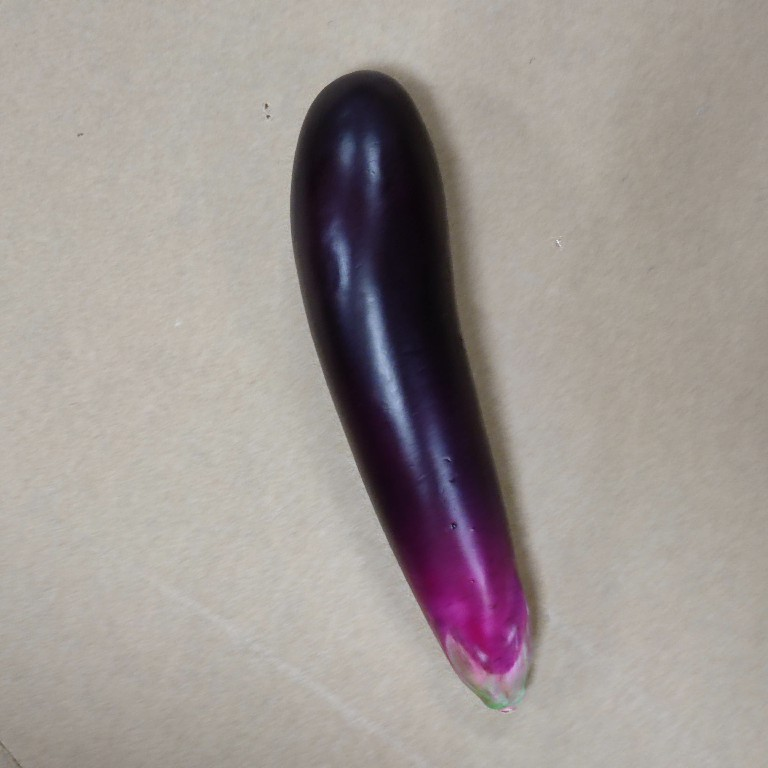fruit_eggplant: (287, 63, 542, 723)
